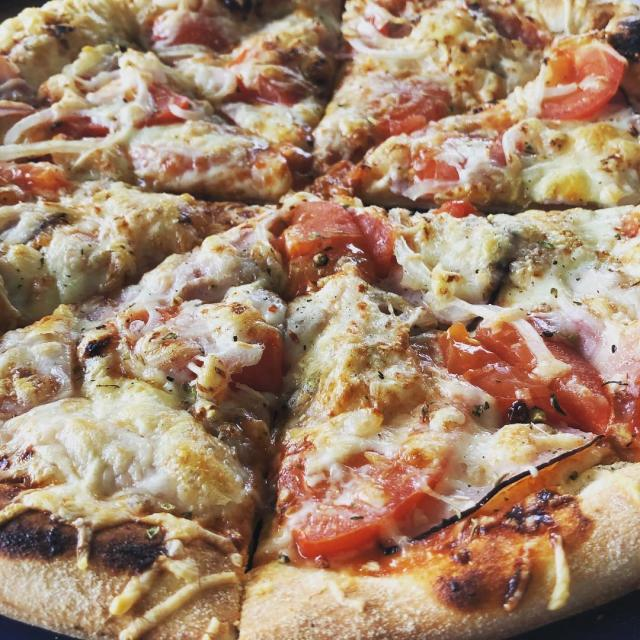pizza: (0, 0, 640, 640)
tomatoes: (276, 416, 452, 556), (430, 316, 619, 438), (276, 196, 394, 290), (412, 130, 532, 201), (54, 70, 194, 128), (537, 36, 623, 122), (376, 78, 447, 129)
